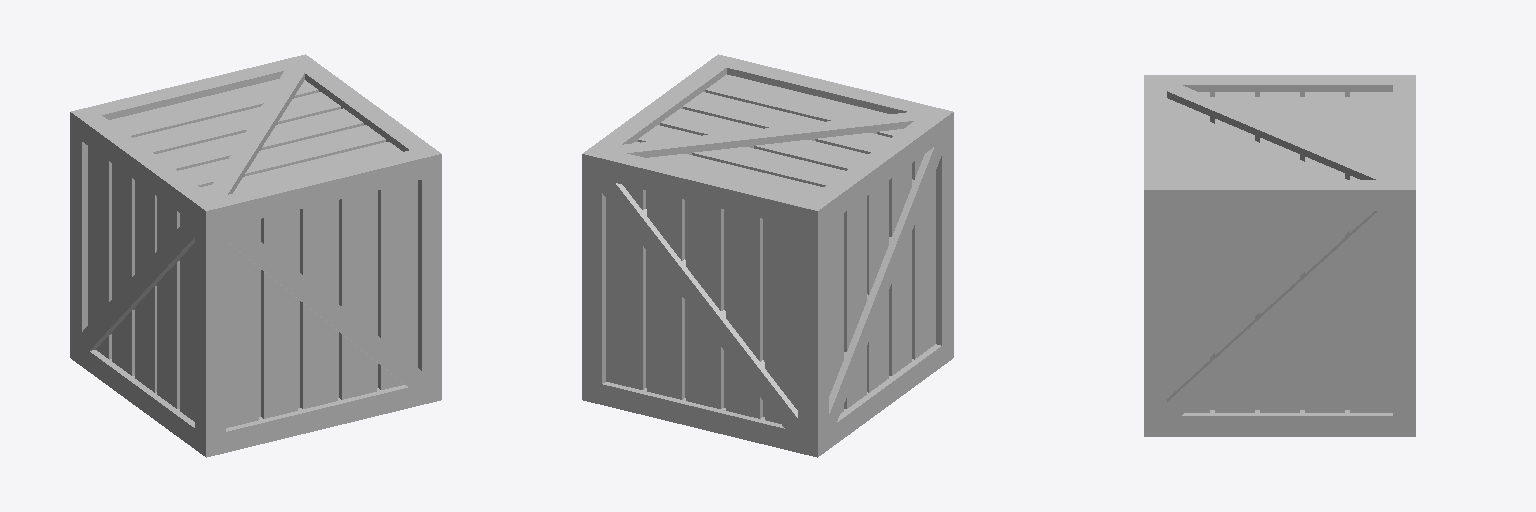
File: Crate.obj
The picture shows the model from 3 angles: view 1: azimuth 30°, elevation 25°; view 2: azimuth 150°, elevation 25°; view 3: azimuth 270°, elevation 25°; orthographic projection.
Parts seen in each view (by area): view 1: Crate; view 2: Crate; view 3: Crate.
Boxes of the visible parts, box(x1,y1,x2,y2) form: Crate: box(70, 54, 441, 457); Crate: box(582, 54, 953, 457); Crate: box(1144, 75, 1415, 436).
Size of the model in its own units: 2 by 2 by 2.